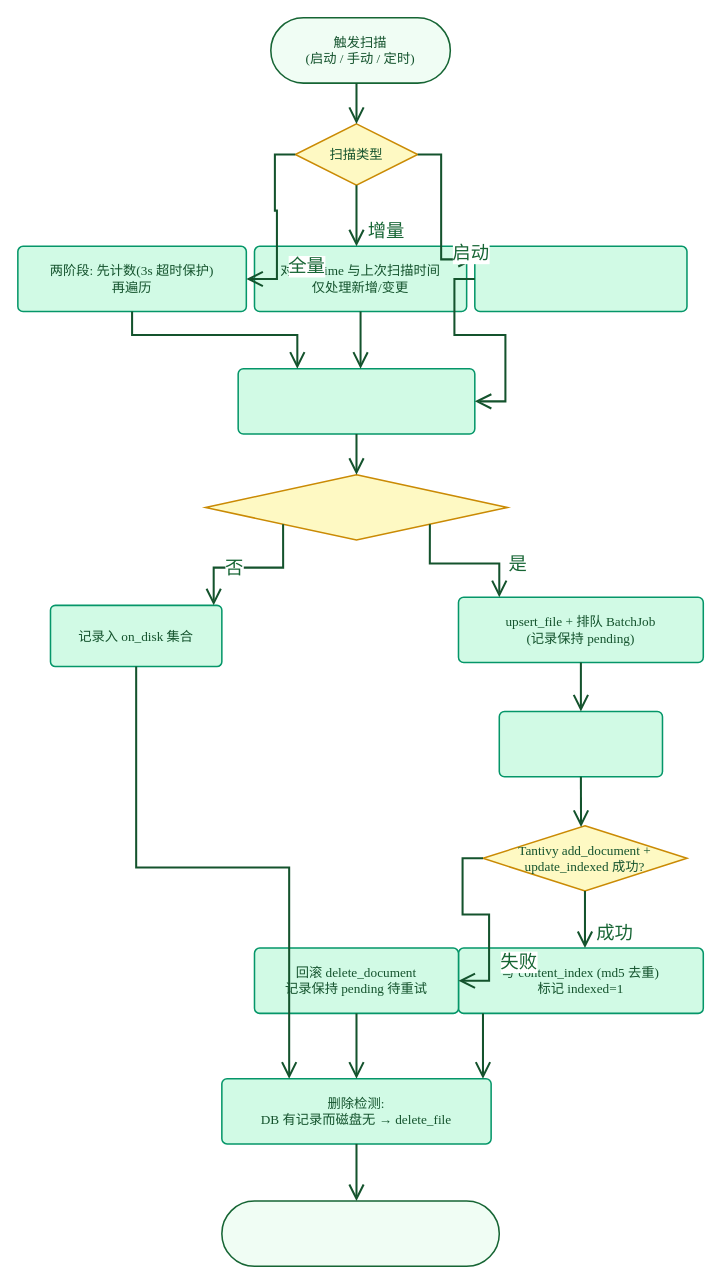
Image size: 722x1285. Some labels were removed from this diagram. Each missing label, with the box of its shape:
batch_index: Rayon 并行提取文本: (498, 710, 663, 777)
commit 索引 → 扫描完成报告 (added/modified/deleted/errors): (221, 1200, 500, 1267)
needs_reindex? (mtime 变更 / pending / extracted): (204, 474, 508, 540)
增量 + 移位检测 (文件名+大小 → MD5 校验): (474, 245, 687, 312)
递归遍历 过滤: 排除规则 + 扩展名白名单: (237, 368, 475, 434)
